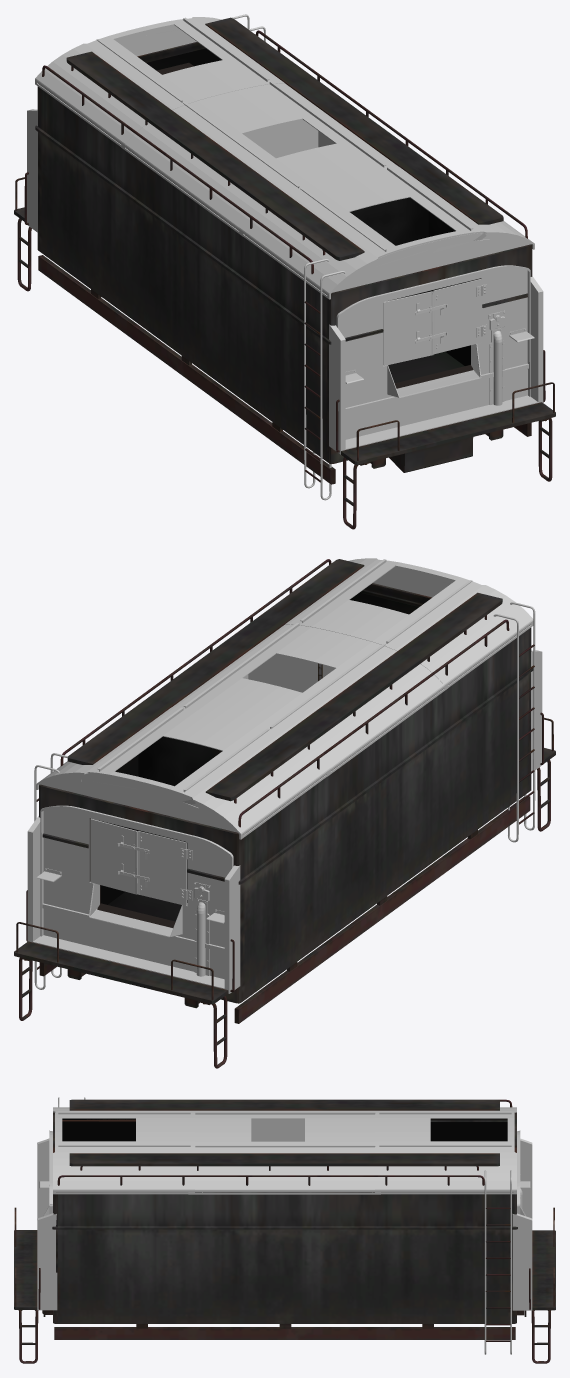
Rendered from SpecialClass.fbx.
The picture shows the model from 3 angles, top to bottom: view 1: azimuth 30°, elevation 25°; view 2: azimuth 150°, elevation 25°; view 3: azimuth 270°, elevation 25°; orthographic projection. The views are drawn at different scales.
Visible parts, largest first — view 1: s282_tender, s282_tender_cab, s060_body.004, s060_body.002, s060_body.003, s282_tender.010, s282_tender.009, s282_tender.004, s060_body.006, s282_tender.011, Cube.001, s282_tender.008 (+3 smaller); view 2: s282_tender, s282_tender_cab.001, s060_body.004, s060_body.003, s060_body.002, s282_tender.010, s282_tender.009, s282_tender.005, s060_body.005, s282_tender.011, Cube.001, s282_tender.008 (+3 smaller); view 3: s282_tender, s060_body.004, s060_body.002, s060_body.003, s282_tender.009, s282_tender.010, s282_tender_cab.001, s282_tender_cab, s282_tender.005, s282_tender.004, s282_tender.014, Cube.001 (+1 smaller).
Boxes of the visible parts, x1,y1,x2,y2 form: s282_tender: (35, 42, 532, 484); s282_tender_cab: (329, 265, 543, 454); s060_body.004: (121, 81, 398, 236); s060_body.002: (239, 166, 534, 299); s060_body.003: (35, 17, 284, 148); s282_tender.010: (66, 51, 364, 260); s282_tender.009: (205, 17, 503, 224); s282_tender.004: (341, 402, 555, 529); s060_body.006: (332, 233, 531, 292); s282_tender.011: (42, 30, 527, 274); Cube.001: (243, 119, 335, 158); s282_tender.008: (304, 259, 345, 500); s282_tender: (39, 583, 533, 1023); s282_tender_cab.001: (27, 805, 240, 993); s060_body.004: (172, 623, 448, 776); s060_body.003: (36, 707, 330, 839); s060_body.002: (285, 558, 533, 690); s282_tender.010: (205, 592, 502, 801); s282_tender.009: (67, 559, 364, 764); s282_tender.005: (14, 941, 228, 1068); s060_body.005: (39, 773, 237, 832); s282_tender.011: (60, 559, 509, 827); Cube.001: (243, 654, 335, 692); s282_tender.008: (493, 602, 535, 842); s282_tender: (42, 1112, 526, 1339); s060_body.004: (188, 1110, 380, 1194); s060_body.002: (53, 1107, 194, 1194); s060_body.003: (375, 1107, 516, 1194); s282_tender.009: (69, 1153, 499, 1166); s282_tender.010: (69, 1099, 499, 1110); s282_tender_cab.001: (512, 1130, 532, 1310); s282_tender_cab: (37, 1130, 57, 1310); s282_tender.005: (531, 1230, 555, 1363); s282_tender.004: (14, 1230, 38, 1363); s282_tender.014: (484, 1170, 511, 1354); Cube.001: (251, 1118, 304, 1141).
Bounding box in the file's own units: 319 × 353 × 879.
